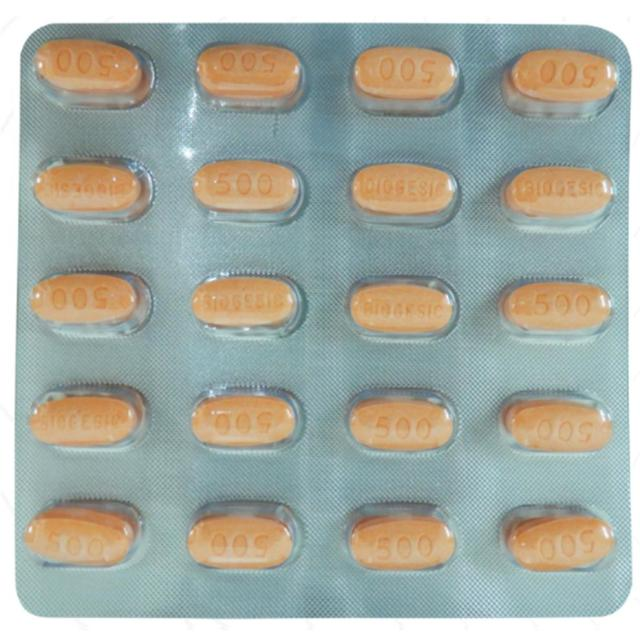blister: (18, 13, 638, 638)
